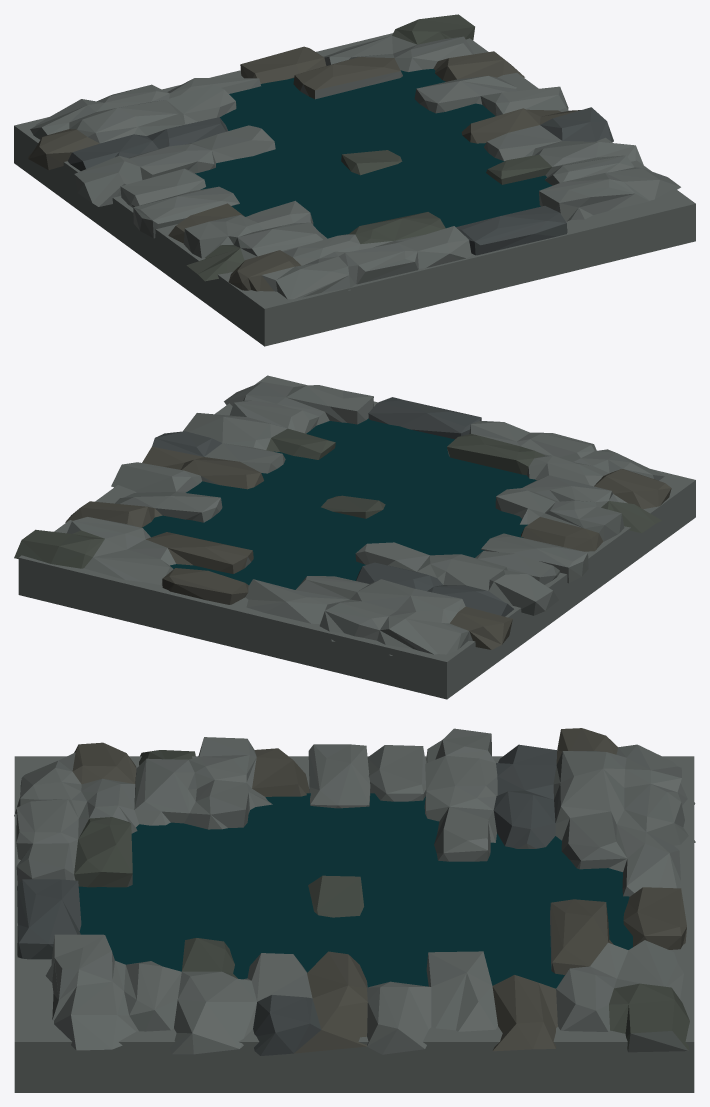
The model's file is MCastle_Cobbles_00.FBX.
3 views of the same model, one above another, from view 1: azimuth 30°, elevation 25°; view 2: azimuth 150°, elevation 25°; view 3: azimuth 270°, elevation 25° (orthographic). The views are drawn at different scales.
Parts seen in each view (by area): view 1: MCastle_Cobbles_00_Base_LOD0; view 2: MCastle_Cobbles_00_Base_LOD0; view 3: MCastle_Cobbles_00_Base_LOD0.
Part boxes in pixels (box(x1,y1,x2,y2)): MCastle_Cobbles_00_Base_LOD0: box(14, 14, 695, 346); MCastle_Cobbles_00_Base_LOD0: box(14, 375, 695, 699); MCastle_Cobbles_00_Base_LOD0: box(14, 728, 695, 1092).
Size of what is drawn, in the model's own units: 4.29 by 0.5581 by 4.05.
